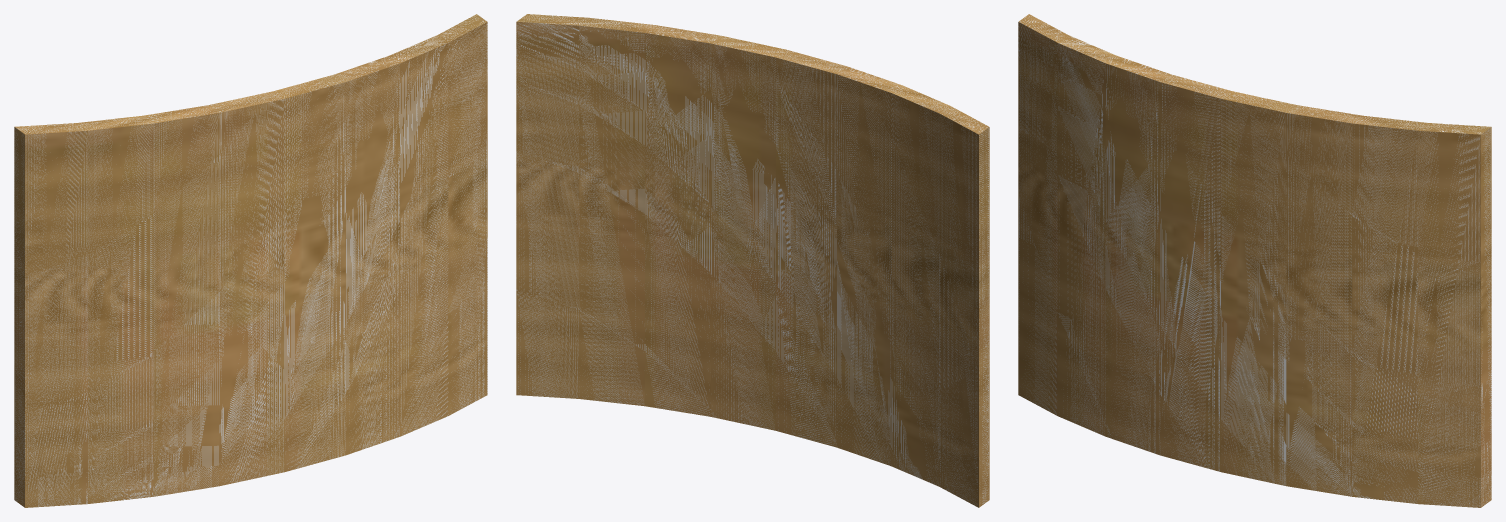
The model's file is original-8.obj.
3 renders of one model, left to right at view 1: azimuth 30°, elevation 25°; view 2: azimuth 150°, elevation 25°; view 3: azimuth 330°, elevation 25°, orthographic.
Visible parts, largest first — view 1: mesh6/mesh6-geometry#mesh6-geometry; view 2: mesh6/mesh6-geometry#mesh6-geometry; view 3: mesh6/mesh6-geometry#mesh6-geometry.
Part boxes in pixels (box(x1,y1,x2,y2)): mesh6/mesh6-geometry#mesh6-geometry: box(14, 14, 487, 507); mesh6/mesh6-geometry#mesh6-geometry: box(516, 14, 989, 507); mesh6/mesh6-geometry#mesh6-geometry: box(1018, 14, 1491, 507).
Bounding box in the file's own units: 0.7142 × 0.551 × 0.1041.
